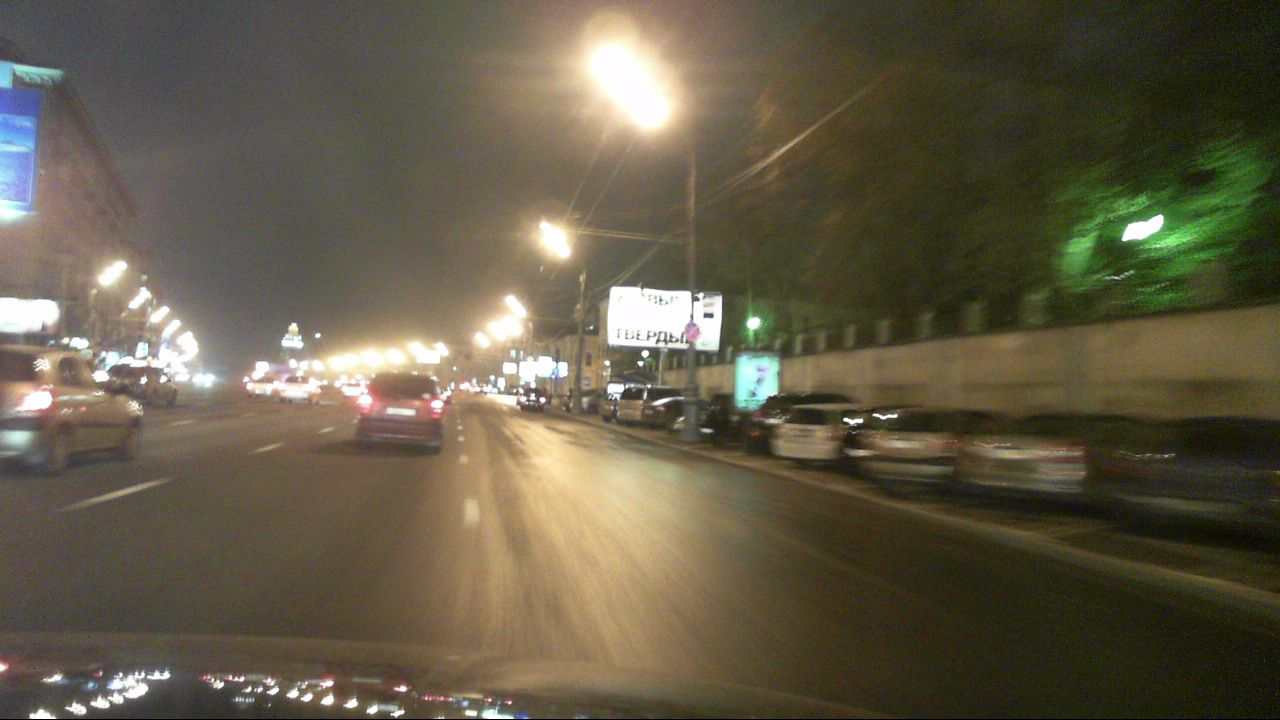No Parking: (684, 321, 700, 337)
